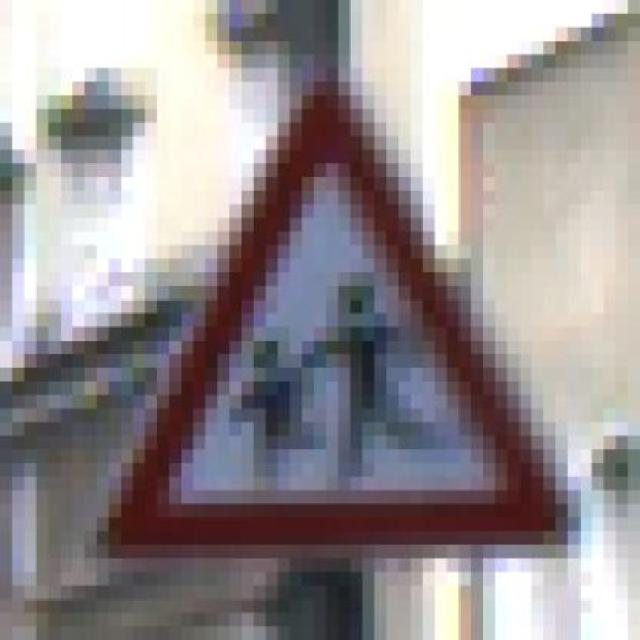Beware of children: (85, 68, 580, 572)
